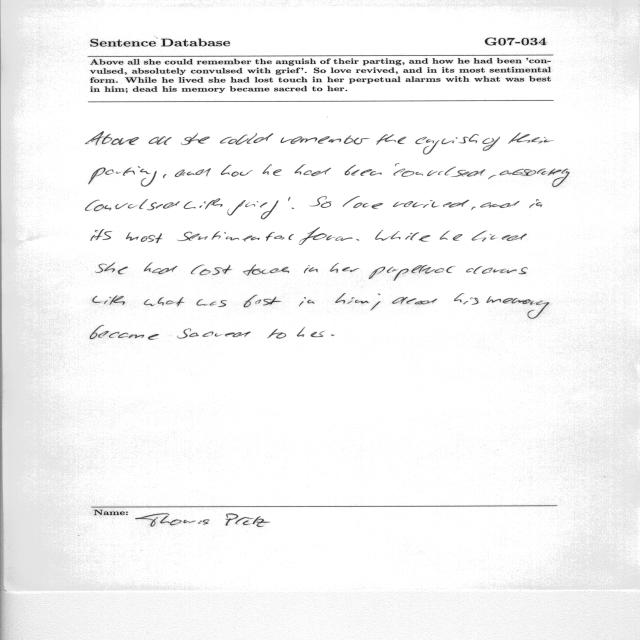word: (487, 296, 550, 319), (89, 166, 157, 187), (369, 265, 453, 281), (500, 168, 570, 187), (415, 134, 479, 154), (177, 232, 294, 242), (85, 199, 180, 211), (228, 200, 279, 219), (90, 325, 159, 339), (394, 167, 486, 177), (299, 228, 352, 245), (281, 136, 370, 145), (177, 329, 251, 339), (85, 132, 139, 145), (220, 133, 273, 145), (393, 200, 469, 208), (375, 230, 430, 241), (472, 231, 527, 242), (342, 196, 383, 209), (508, 133, 554, 144), (243, 265, 289, 276), (466, 266, 528, 274), (335, 293, 380, 304), (244, 295, 281, 308), (295, 164, 331, 176), (184, 199, 223, 210), (191, 265, 232, 275), (345, 165, 382, 176), (126, 232, 162, 243), (144, 262, 177, 274), (221, 165, 253, 177), (144, 297, 184, 306), (392, 297, 437, 305), (96, 263, 128, 274), (377, 134, 407, 145), (175, 168, 211, 177), (93, 295, 125, 305), (181, 134, 210, 145), (454, 293, 479, 305), (330, 263, 359, 273), (297, 328, 325, 338), (481, 201, 520, 208), (482, 136, 500, 151), (310, 196, 332, 208), (91, 229, 112, 241), (197, 299, 227, 307), (263, 164, 282, 176), (440, 231, 462, 241), (149, 136, 172, 145), (268, 329, 287, 339), (299, 297, 314, 307), (529, 199, 542, 208), (304, 265, 317, 273), (370, 302, 381, 311), (489, 175, 496, 179), (163, 174, 167, 178), (395, 163, 399, 166), (288, 197, 291, 201), (472, 207, 476, 210), (331, 334, 335, 336), (357, 239, 360, 241), (292, 208, 294, 209)
